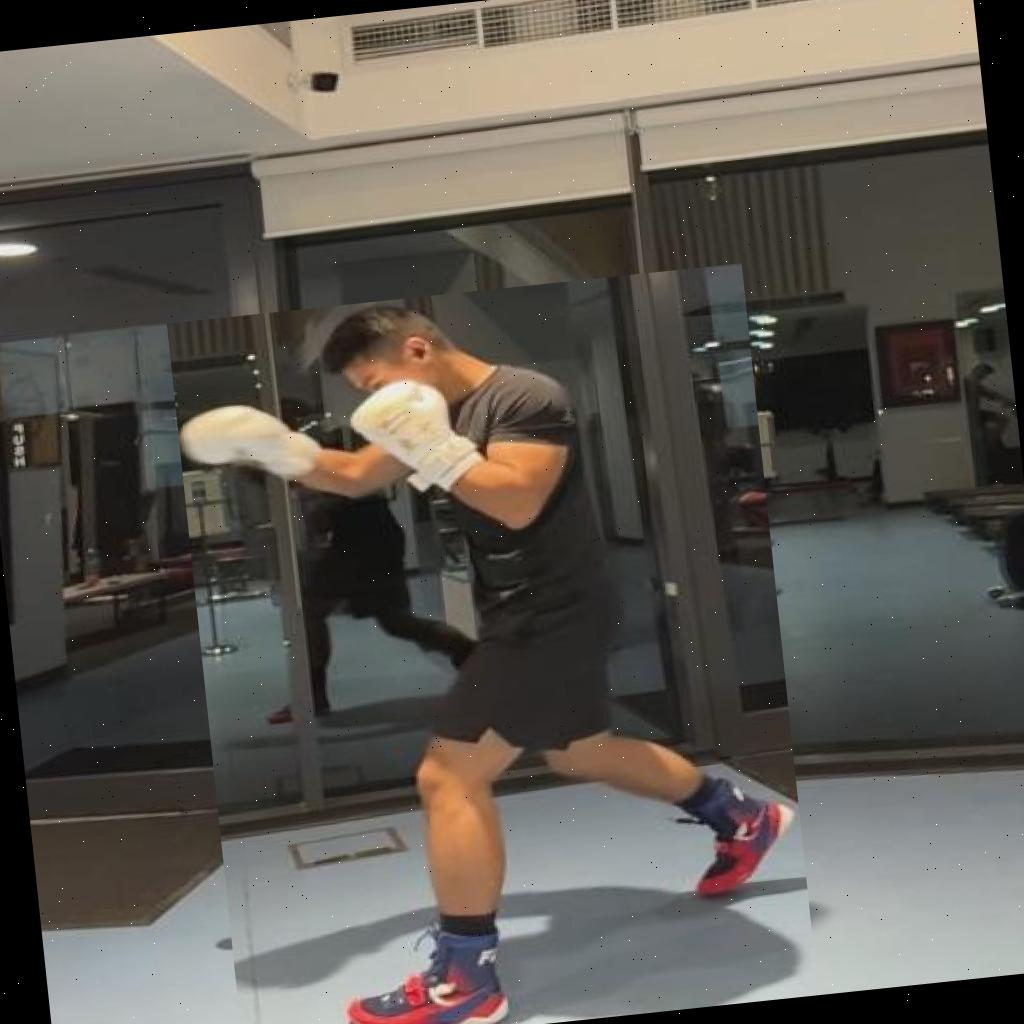cross: (166, 263, 817, 1024)
